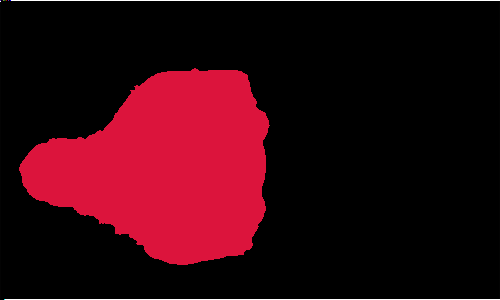toy: (16, 65, 276, 264)
